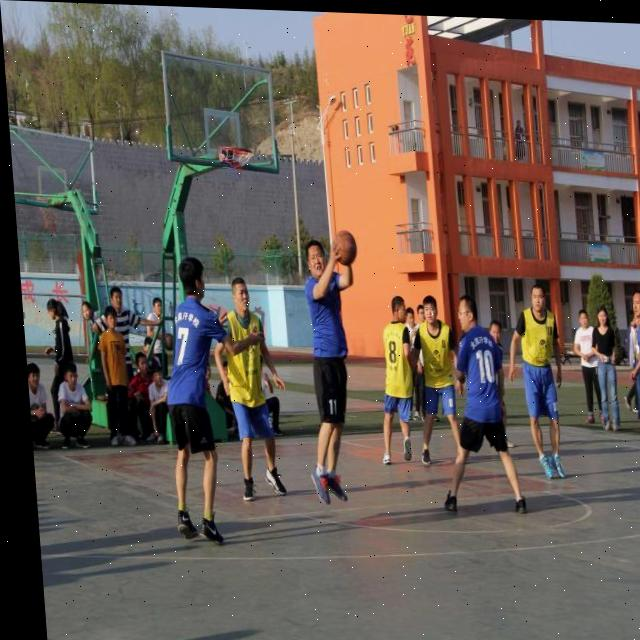basketball: (334, 231, 359, 267)
hoop: (220, 145, 255, 183)
